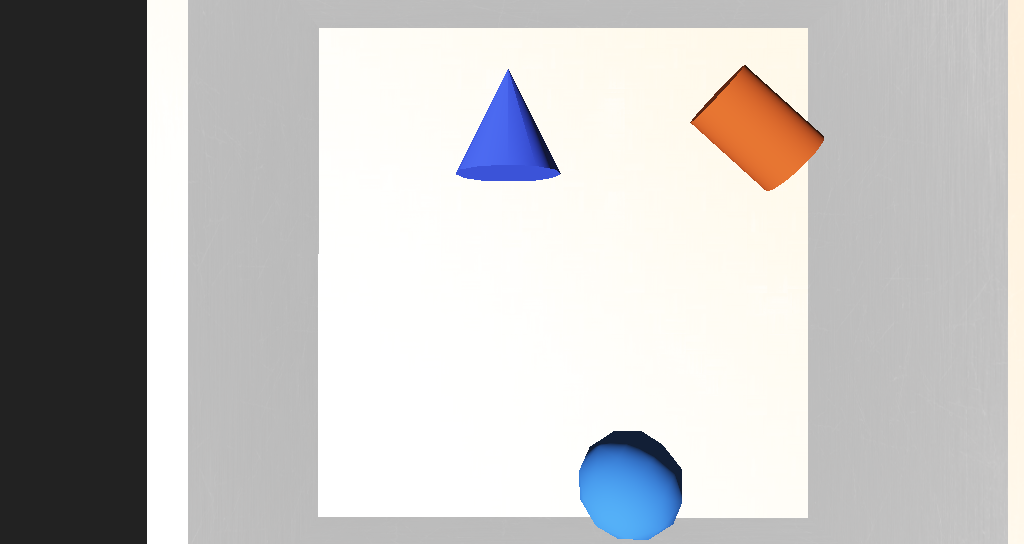cone: (579, 177, 660, 234)
cylinder: (441, 179, 502, 231)
sphere: (515, 334, 576, 382)
